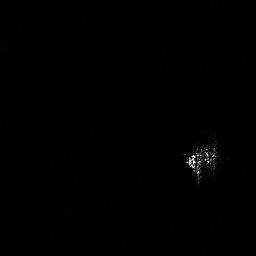ship: (187, 148, 216, 172)
